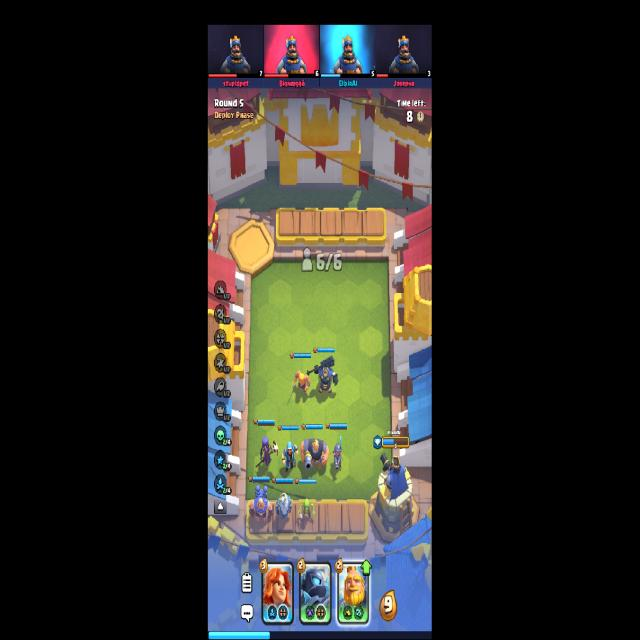barbarian: (288, 370, 311, 404)
card_mini_pekka: (298, 561, 332, 625)
card_royal_giant: (337, 559, 369, 626)
card_valkyrie: (261, 560, 295, 625)
electro_giant: (248, 485, 273, 520)
goblin: (299, 498, 316, 522)
musketeer: (332, 436, 343, 470)
royal_ghost: (276, 492, 291, 517)
royal_giant: (300, 438, 329, 469)
skeleton_king: (307, 354, 340, 394)
witch: (254, 435, 278, 466)
wizard: (282, 441, 298, 471)
